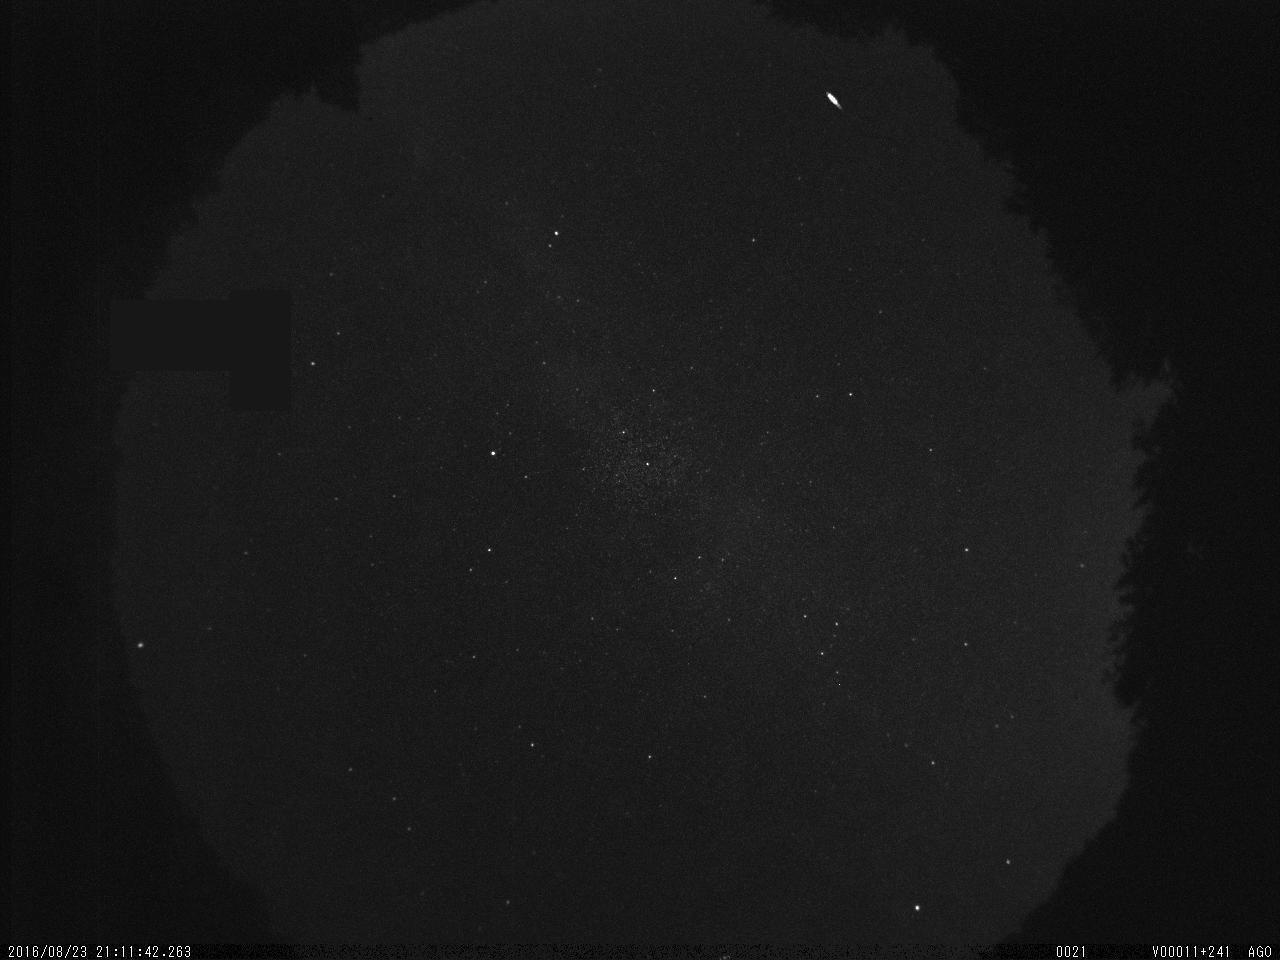meteor: (819, 84, 854, 117)
